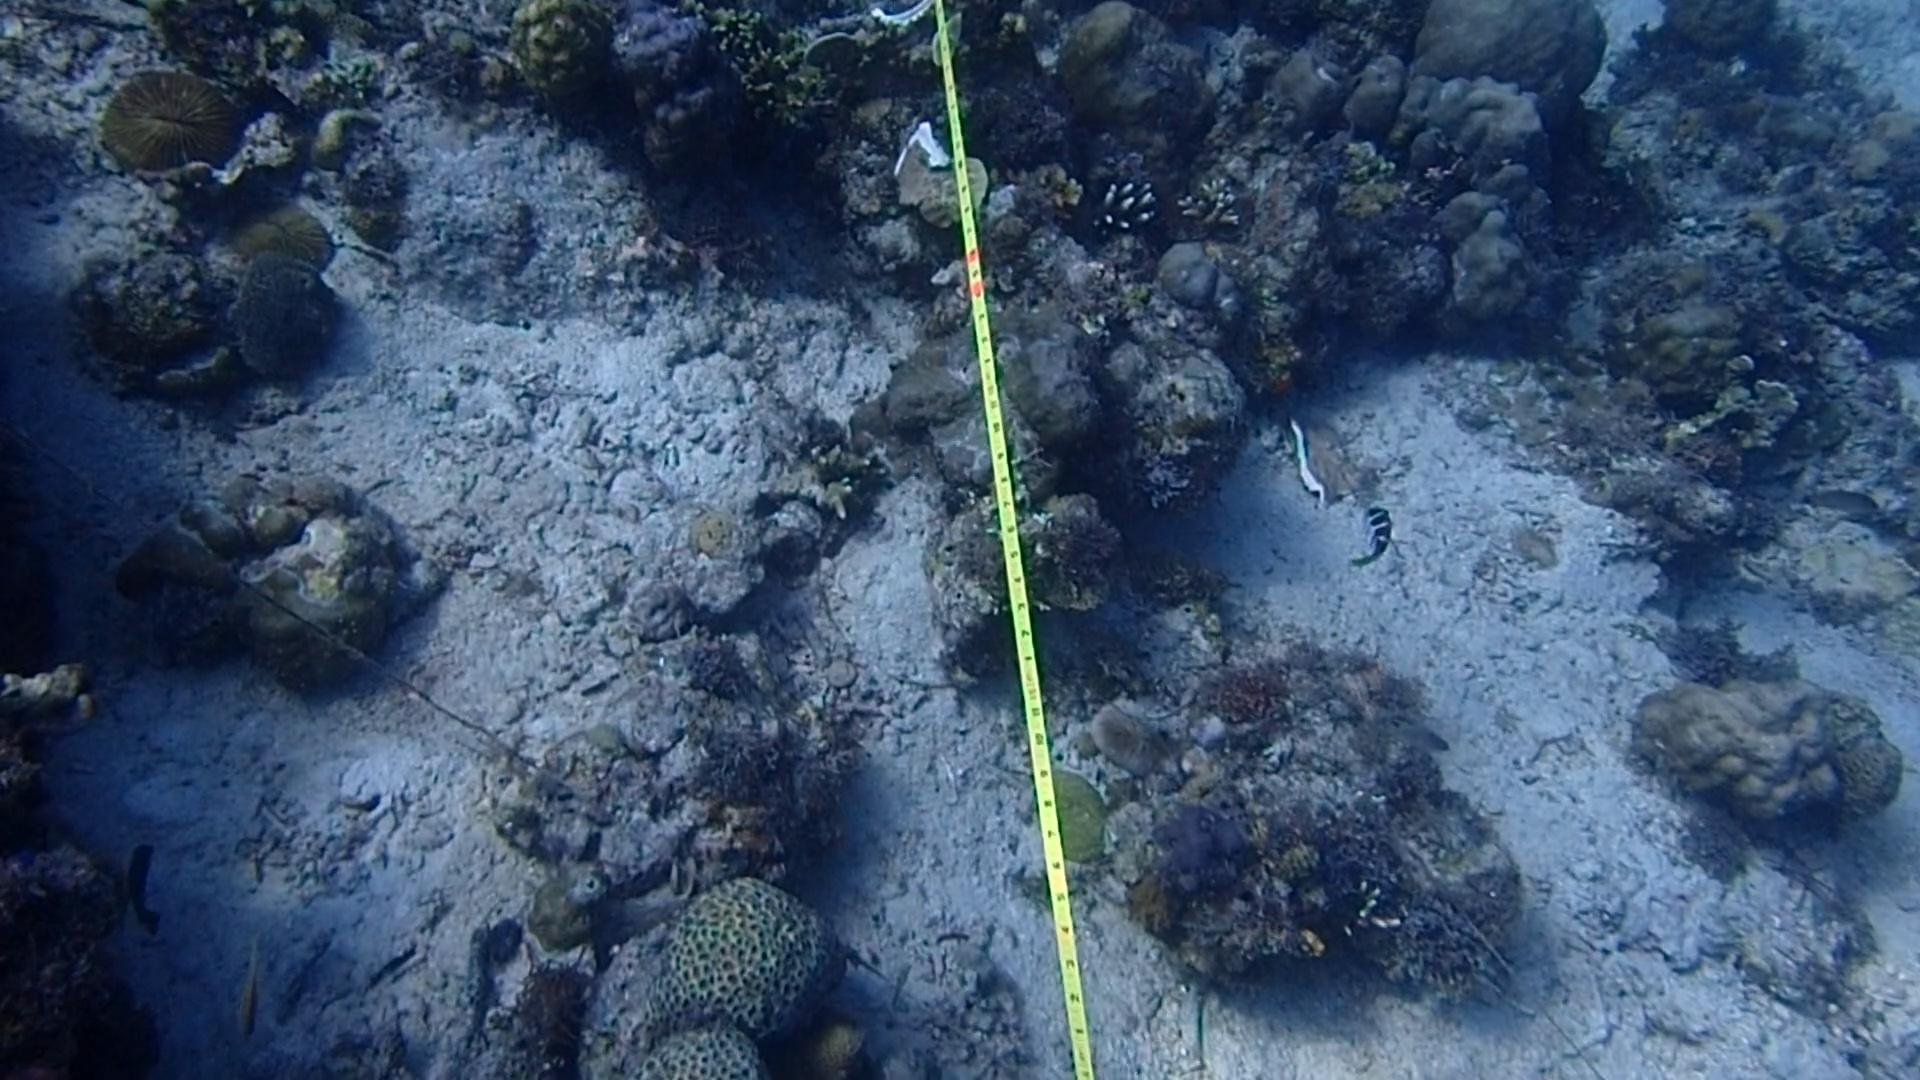Striped Fish: (1336, 505, 1406, 578)
